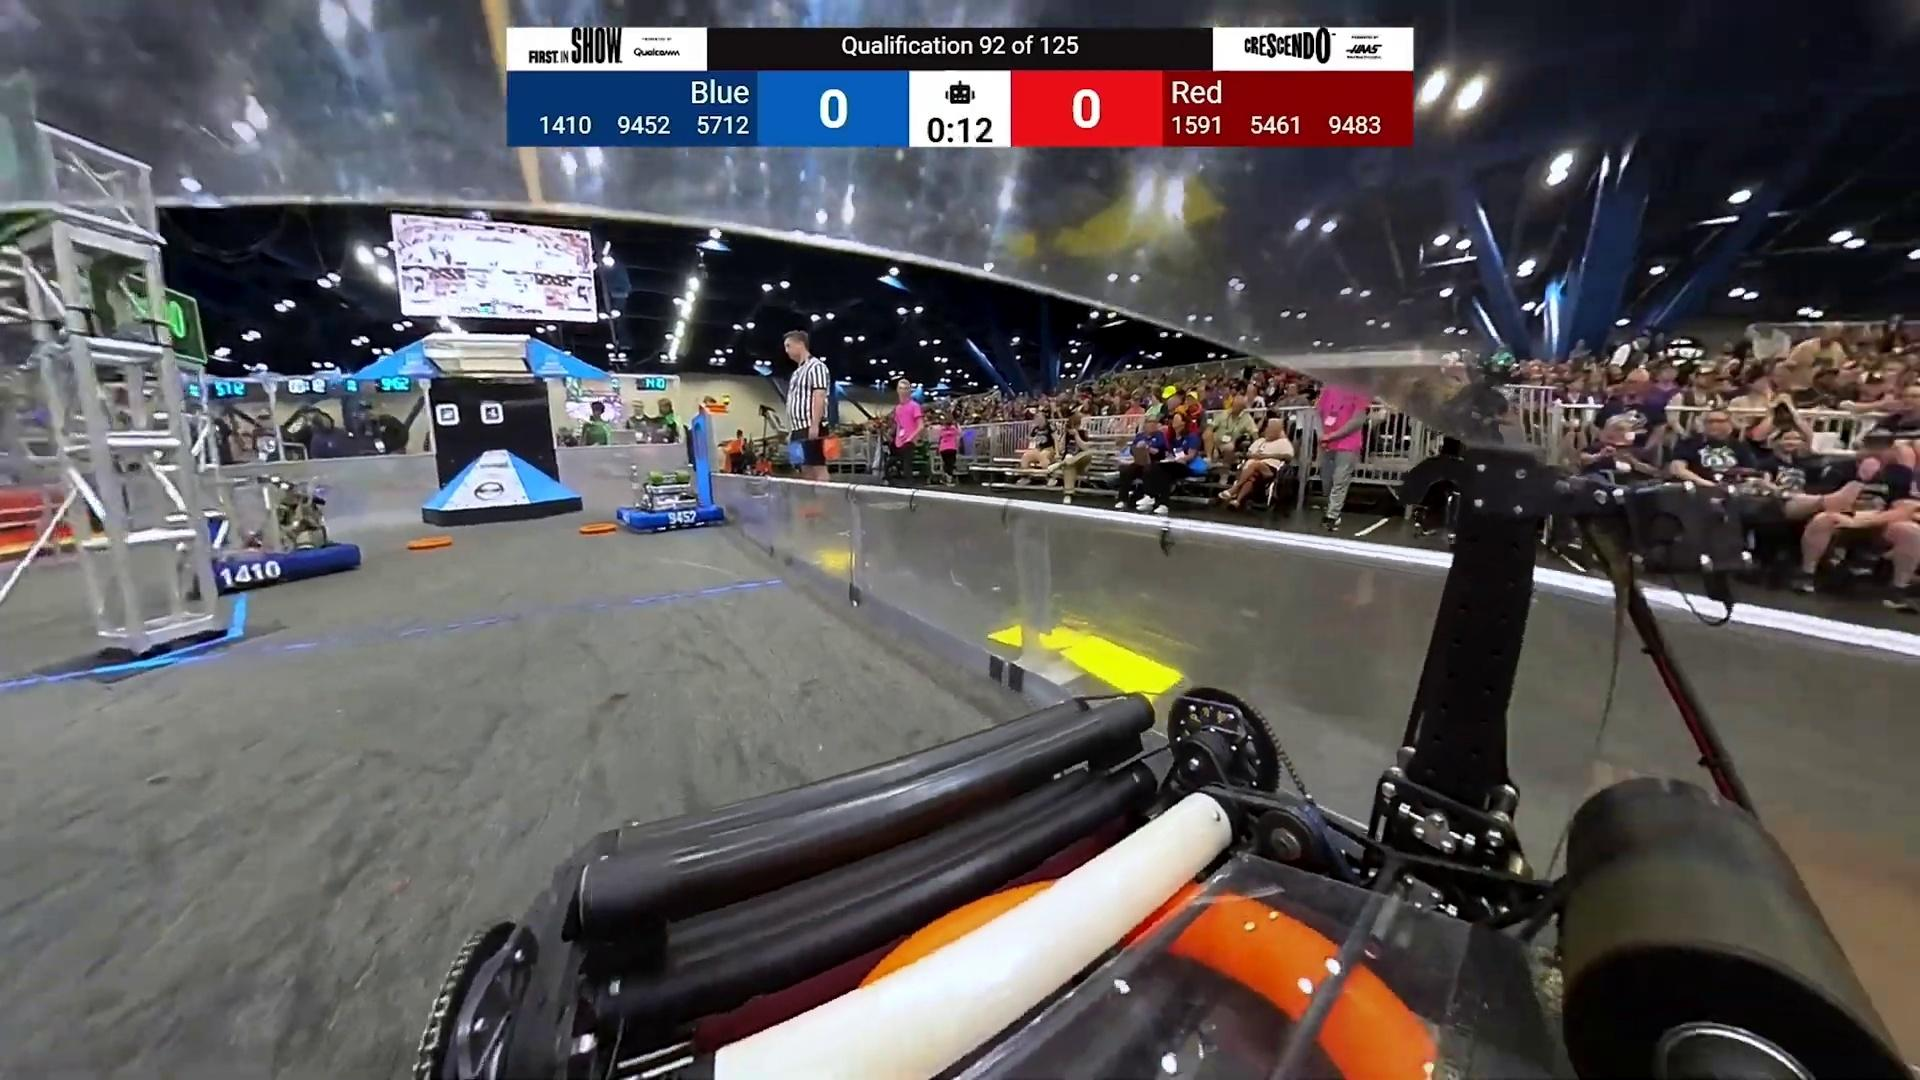robot: (178, 469, 361, 603), (616, 465, 725, 535)
